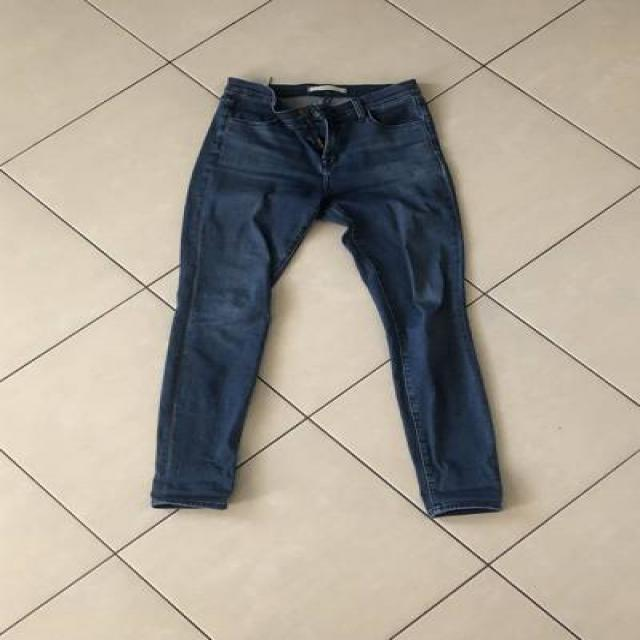Clothes -Biodegradable-: (147, 76, 505, 512)
